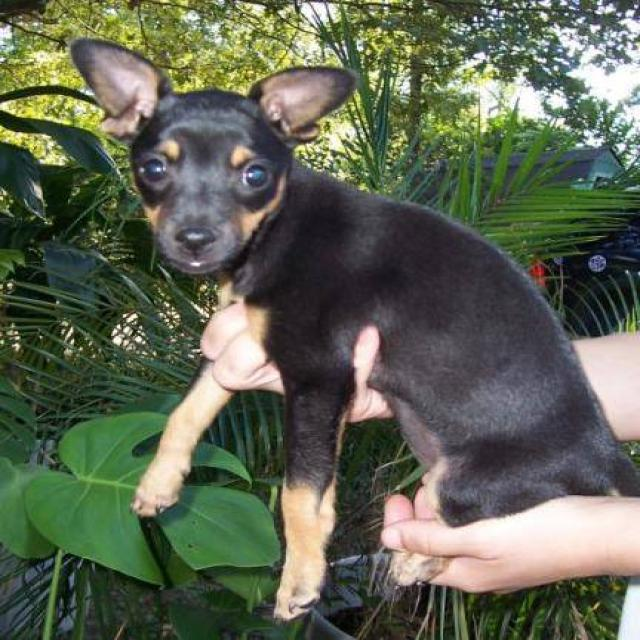dog: (65, 35, 639, 624)
